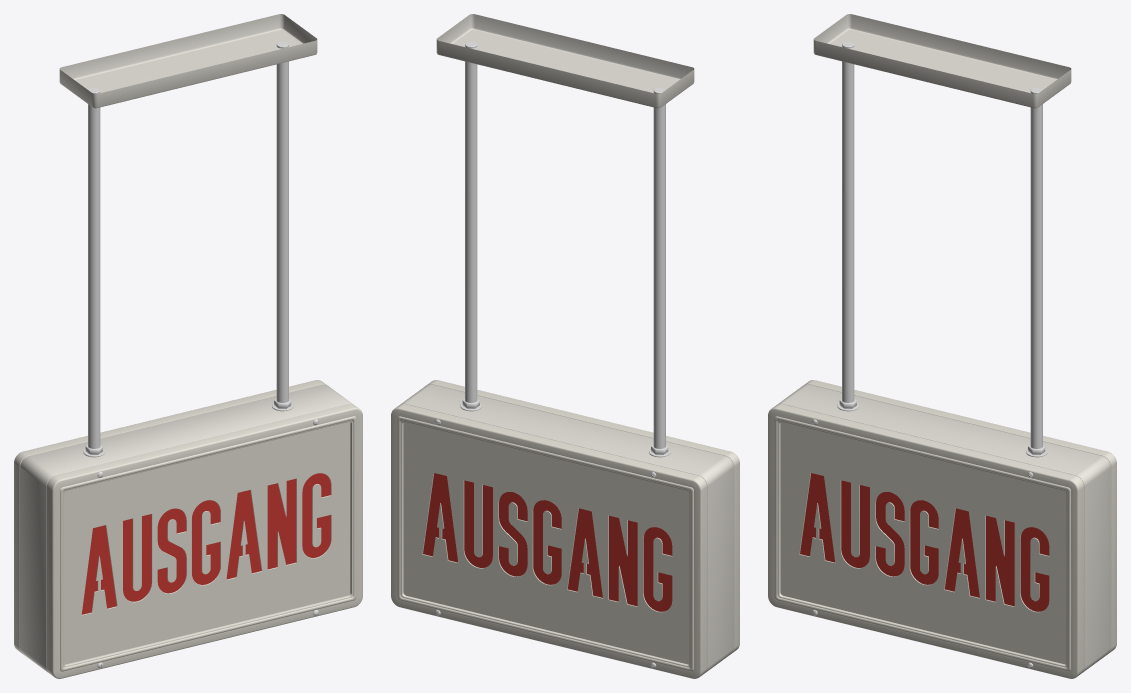
The model's file is Kit_ExitSign_Hanging.fbx.
3 renders of one model, left to right at view 1: azimuth 30°, elevation 25°; view 2: azimuth 150°, elevation 25°; view 3: azimuth 330°, elevation 25°, orthographic.
Visible parts, largest first — view 1: Kit_ExitSign_Hanging_LOD0; view 2: Kit_ExitSign_Hanging_LOD0; view 3: Kit_ExitSign_Hanging_LOD0.
Part boxes in pixels (x1,y1,x2,y2): Kit_ExitSign_Hanging_LOD0: (14,14,362,678); Kit_ExitSign_Hanging_LOD0: (391,14,739,678); Kit_ExitSign_Hanging_LOD0: (768,14,1116,678).
Size of what is drawn, in the model's own units: 0.346 by 0.612 by 0.0789.
